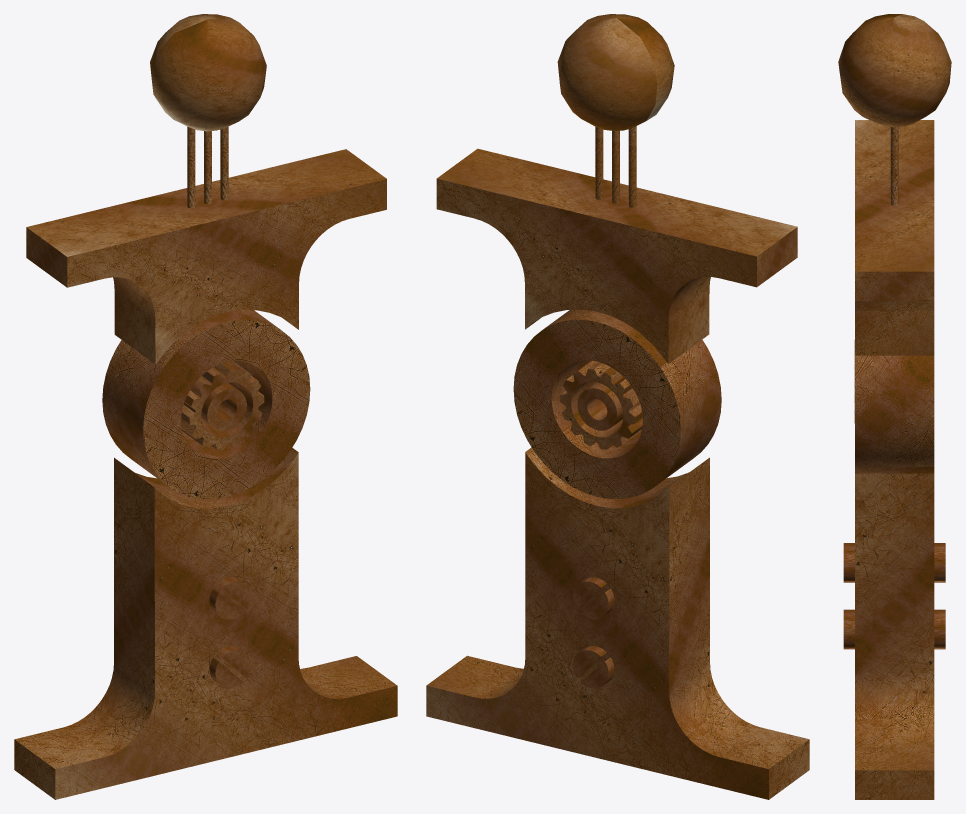
3 renders of one model, left to right at view 1: azimuth 30°, elevation 25°; view 2: azimuth 150°, elevation 25°; view 3: azimuth 270°, elevation 25°, orthographic. The views are drawn at different scales.
Parts seen in each view (by area): view 1: I, Sphere_057, Cogwheel_261, Screw_822, Screw_819, Tube_412; view 2: I, Sphere_057, Cogwheel_261, Screw_819, Screw_822, Tube_412; view 3: I, Sphere_057, Screw_822, Screw_819, Tube_411.
Boxes of the visible parts, bbox=[...] form: I: bbox=[14, 149, 397, 799]; Sphere_057: bbox=[150, 14, 266, 131]; Cogwheel_261: bbox=[181, 361, 264, 450]; Screw_822: bbox=[209, 646, 250, 688]; Screw_819: bbox=[209, 577, 250, 619]; Tube_412: bbox=[187, 126, 195, 208]; I: bbox=[426, 148, 809, 799]; Sphere_057: bbox=[557, 14, 674, 130]; Cogwheel_261: bbox=[560, 360, 642, 449]; Screw_819: bbox=[573, 577, 614, 619]; Screw_822: bbox=[573, 646, 614, 688]; Tube_412: bbox=[628, 126, 636, 207]; I: bbox=[855, 120, 934, 799]; Sphere_057: bbox=[838, 14, 951, 127]; Screw_822: bbox=[843, 609, 945, 649]; Screw_819: bbox=[843, 543, 945, 582]; Tube_411: bbox=[890, 127, 898, 205].
Bounding box in the file's own units: 48.41 × 97.86 × 14.32.
Materials: 1 (1 with a texture image).
